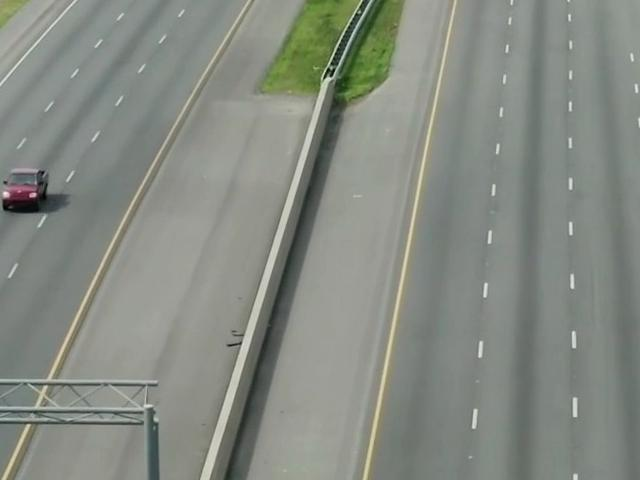car: (0, 156, 58, 214)
